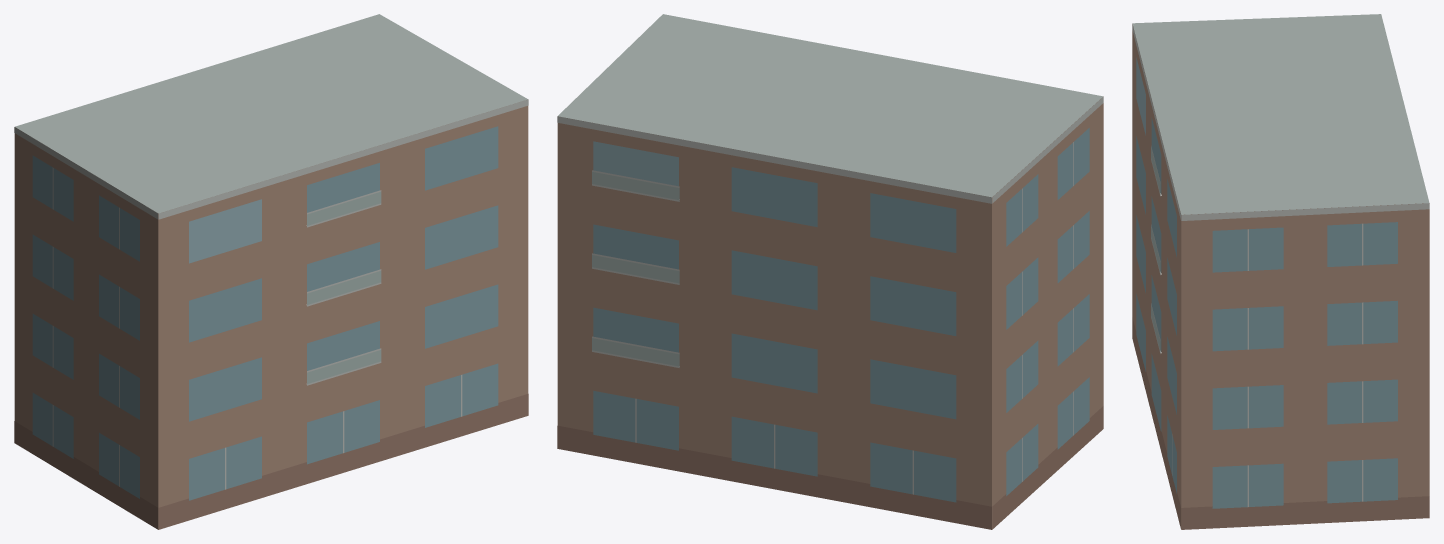
Rendered from survey-upis-32847782.glb.
3 renders of one model, left to right at view 1: azimuth 30°, elevation 25°; view 2: azimuth 150°, elevation 25°; view 3: azimuth 270°, elevation 25°, orthographic. The views are drawn at different scales.
Parts seen in each view (by area): view 1: survey-upis-32847782.tmp; view 2: survey-upis-32847782.tmp; view 3: survey-upis-32847782.tmp.
Boxes of the visible parts, box(x1,y1,x2,y2) form: survey-upis-32847782.tmp: box(14, 14, 528, 529); survey-upis-32847782.tmp: box(557, 14, 1103, 529); survey-upis-32847782.tmp: box(1132, 14, 1429, 529).
Bounding box in the file's own units: 16.97 × 12.4 × 10.61.
